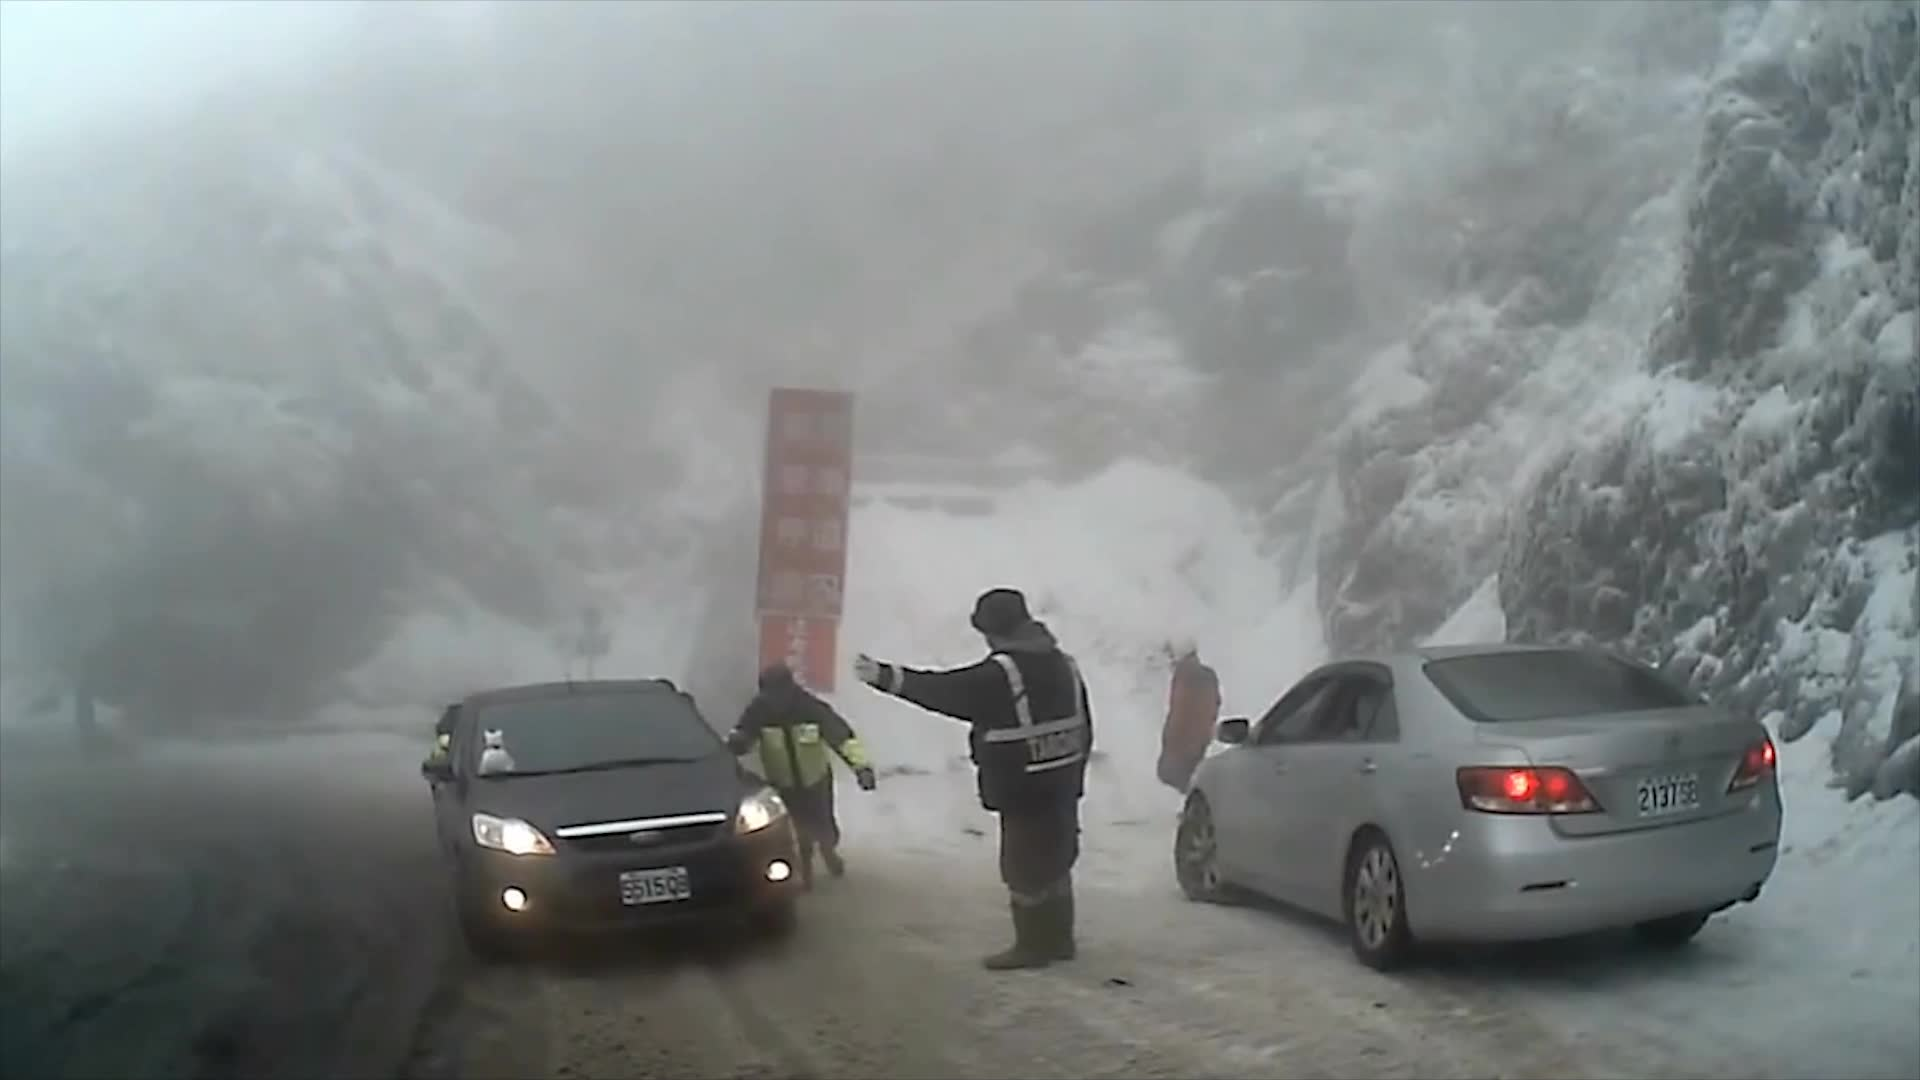pedestrian: (842, 589, 1096, 975), (728, 670, 883, 886), (1145, 629, 1227, 823)
vehicle: (1173, 644, 1783, 970), (418, 678, 800, 965)
